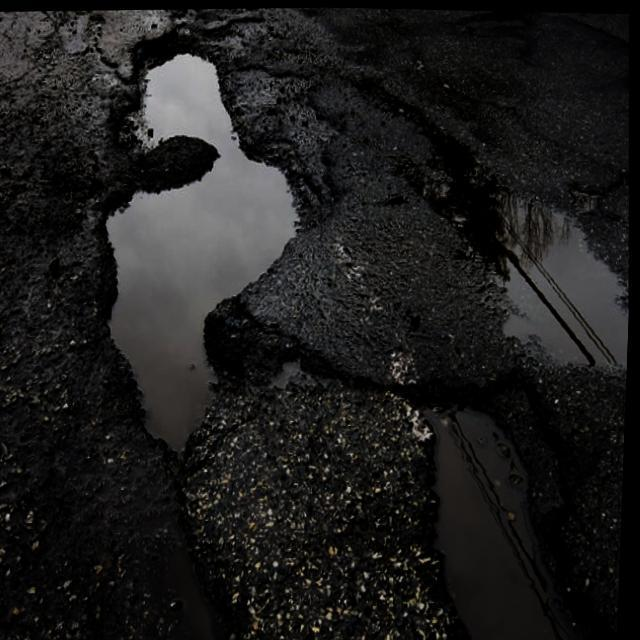Pothole: (83, 20, 359, 498), (411, 363, 615, 640), (477, 171, 631, 382)
